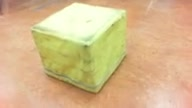cube: (30, 2, 126, 93)
